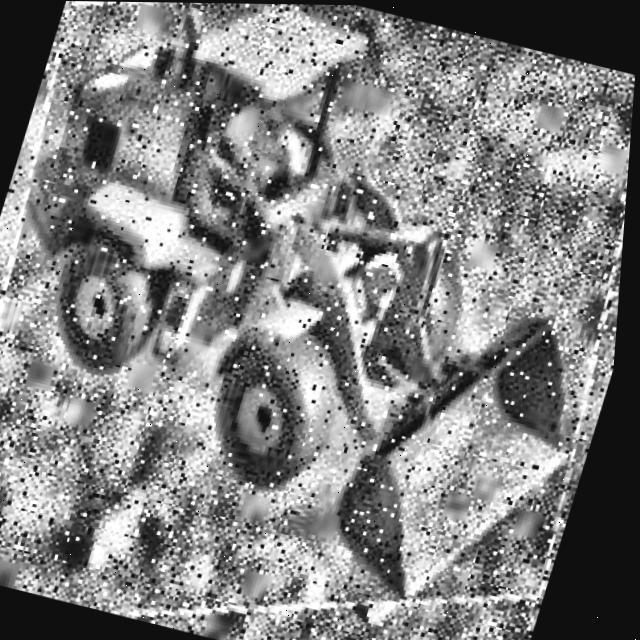buldozerpayloadergrader: (0, 0, 640, 626)
